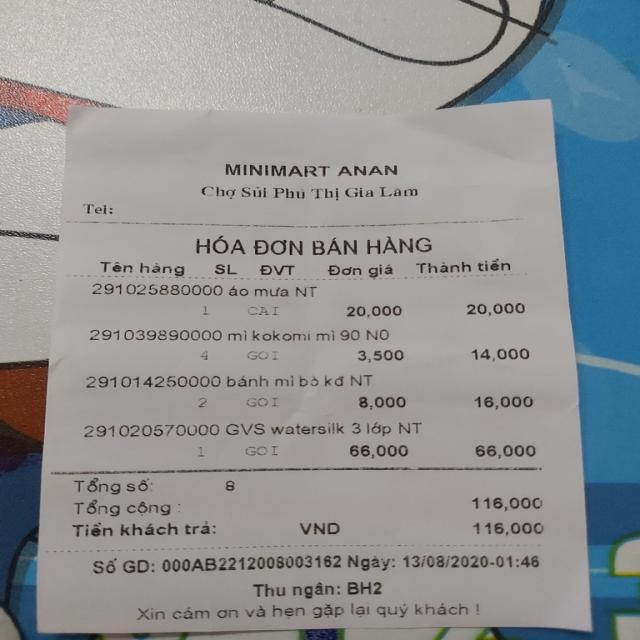Date: (403, 552, 493, 570)
Store_Name: (221, 162, 402, 181)
amount_number: (469, 491, 544, 510)
label_total: (68, 498, 174, 516)
